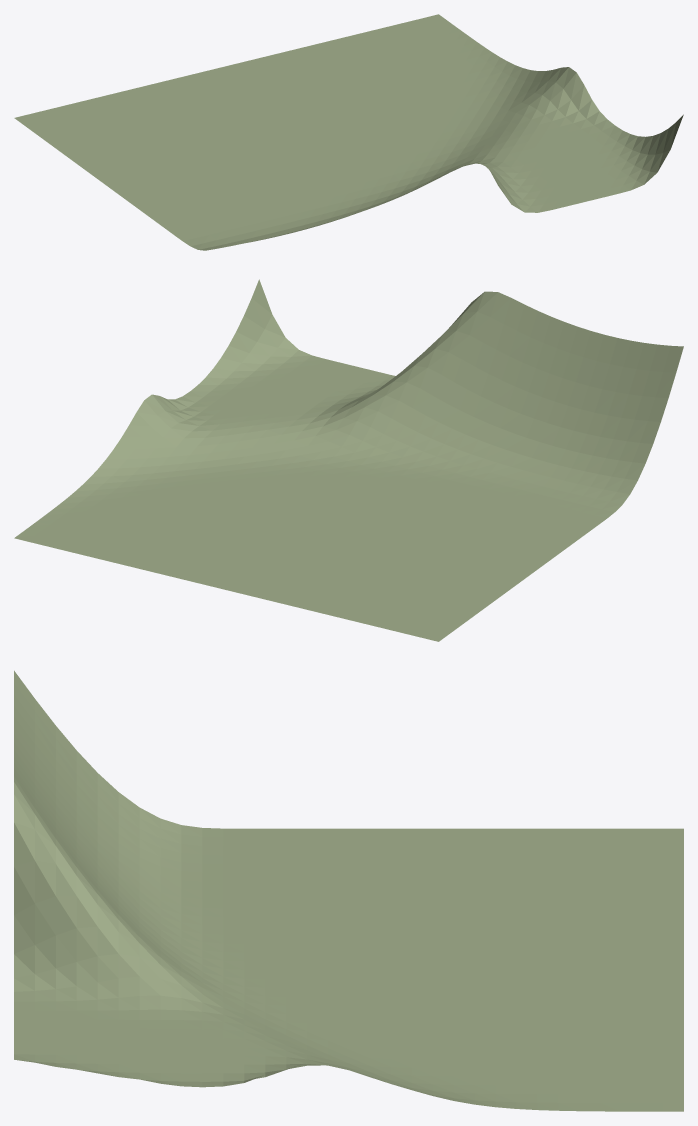
Rendered from canyon-1-1.glb.
The picture shows the model from 3 angles, top to bottom: view 1: azimuth 30°, elevation 25°; view 2: azimuth 150°, elevation 25°; view 3: azimuth 270°, elevation 25°; orthographic projection. The views are drawn at different scales.
Parts seen in each view (by area): view 1: canyon-1-1; view 2: canyon-1-1; view 3: canyon-1-1.
Boxes of the visible parts, bbox=[...] form: canyon-1-1: bbox=[14, 14, 683, 250]; canyon-1-1: bbox=[14, 279, 683, 641]; canyon-1-1: bbox=[14, 670, 683, 1111].
Size of the model in its own units: 128 by 36.01 by 128.
